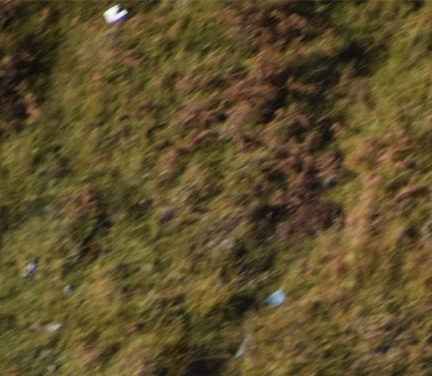white_in_green: (252, 276, 302, 320), (91, 1, 137, 33)
